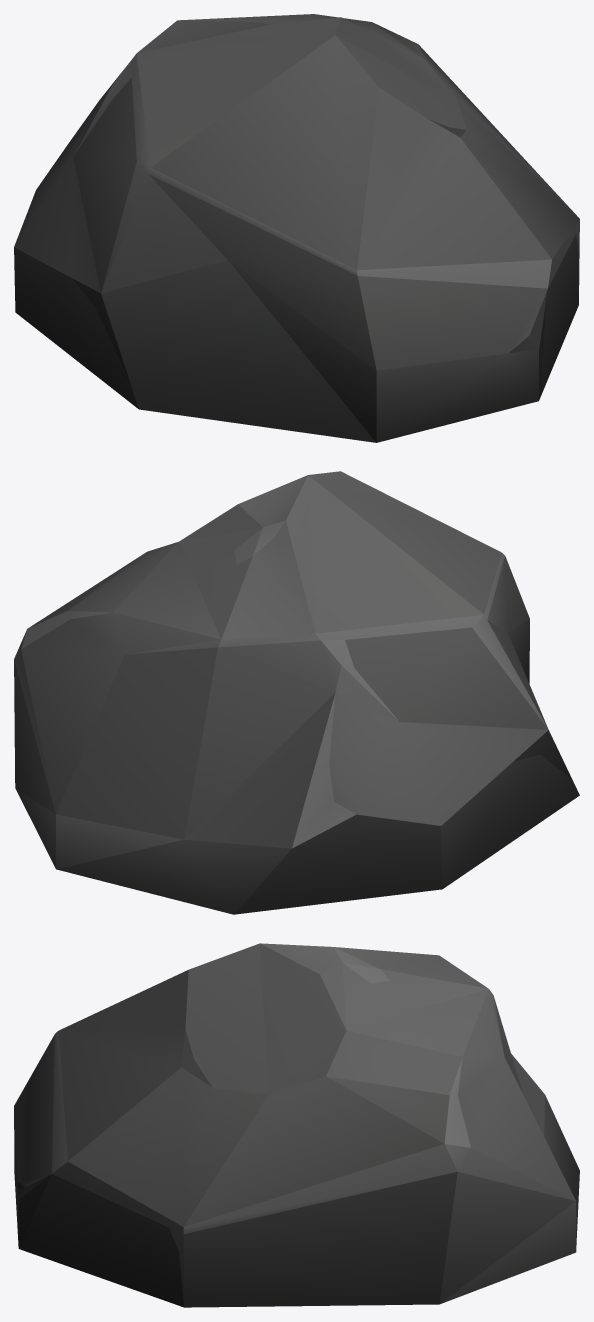
File: TFP_Rock_02B.gltf
The picture shows the model from 3 angles, top to bottom: view 1: azimuth 30°, elevation 25°; view 2: azimuth 150°, elevation 25°; view 3: azimuth 270°, elevation 25°; orthographic projection. The views are drawn at different scales.
Parts seen in each view (by area): view 1: TFP_Rock_02B_LOD0; view 2: TFP_Rock_02B_LOD0; view 3: TFP_Rock_02B_LOD0.
Boxes of the visible parts, box(x1,y1,x2,y2) form: TFP_Rock_02B_LOD0: box(14, 14, 579, 442); TFP_Rock_02B_LOD0: box(14, 471, 579, 914); TFP_Rock_02B_LOD0: box(14, 943, 579, 1307).
Size of the model in its own units: 0.2449 by 0.1539 by 0.2907.
Materials: 1 (1 with a texture image).
